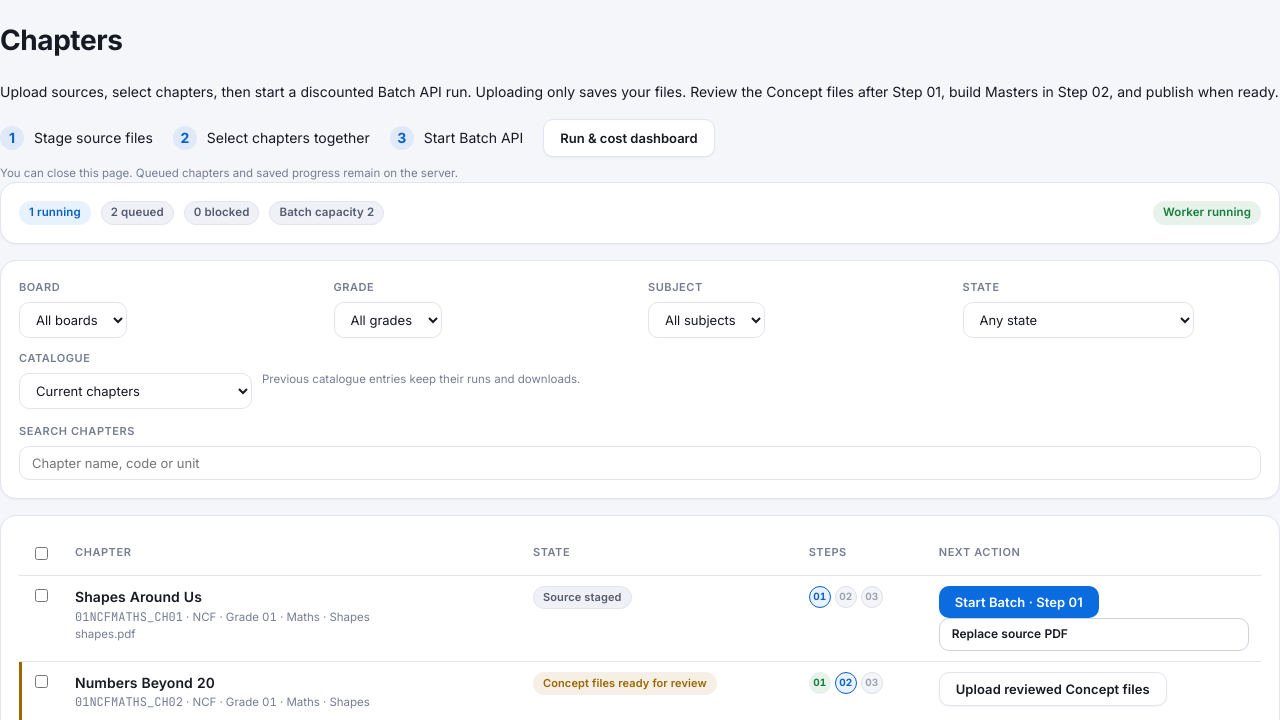
Test: selecting rows and pushing sends ONE request with only the eligible rows
Expected: the button "Shapes Around Us" is shown, [75,586,202,608]
Click the checkbox named "Select Shapes Around Us": (42, 596) [35,589,48,602]
(page scrolled)
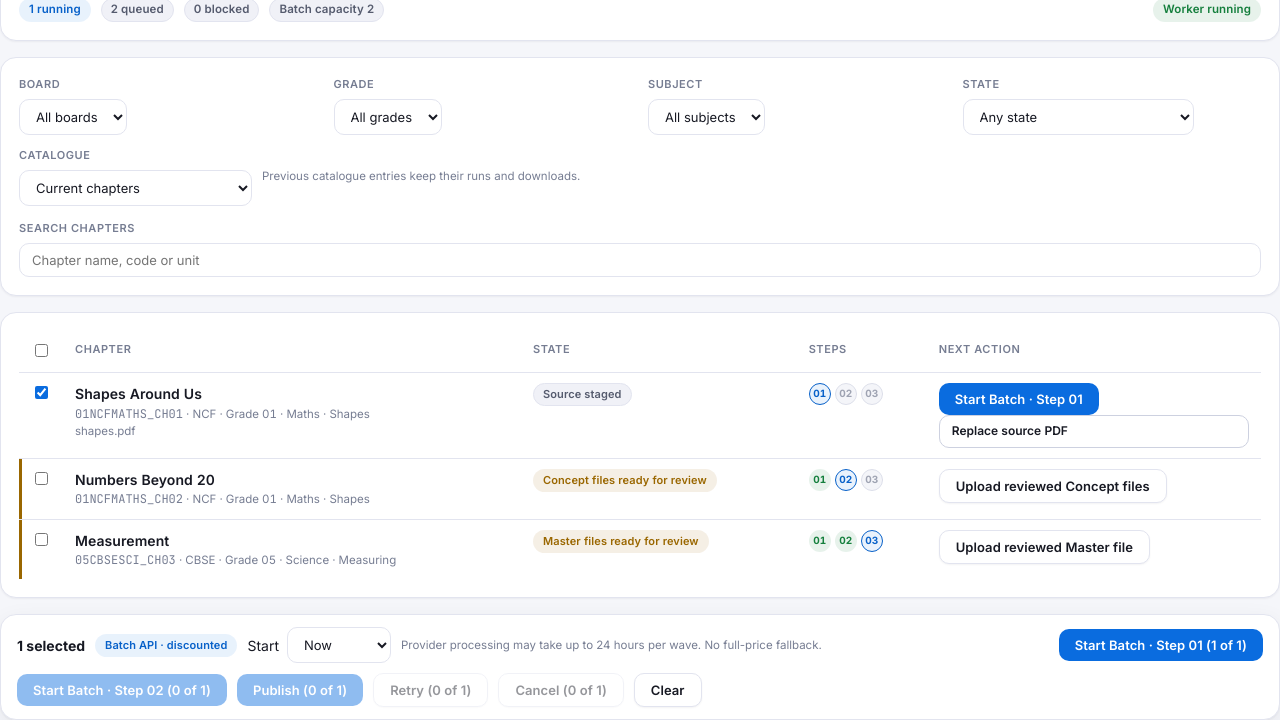
Click the checkbox named "Select Measurement": (42, 539) [35,532,48,546]
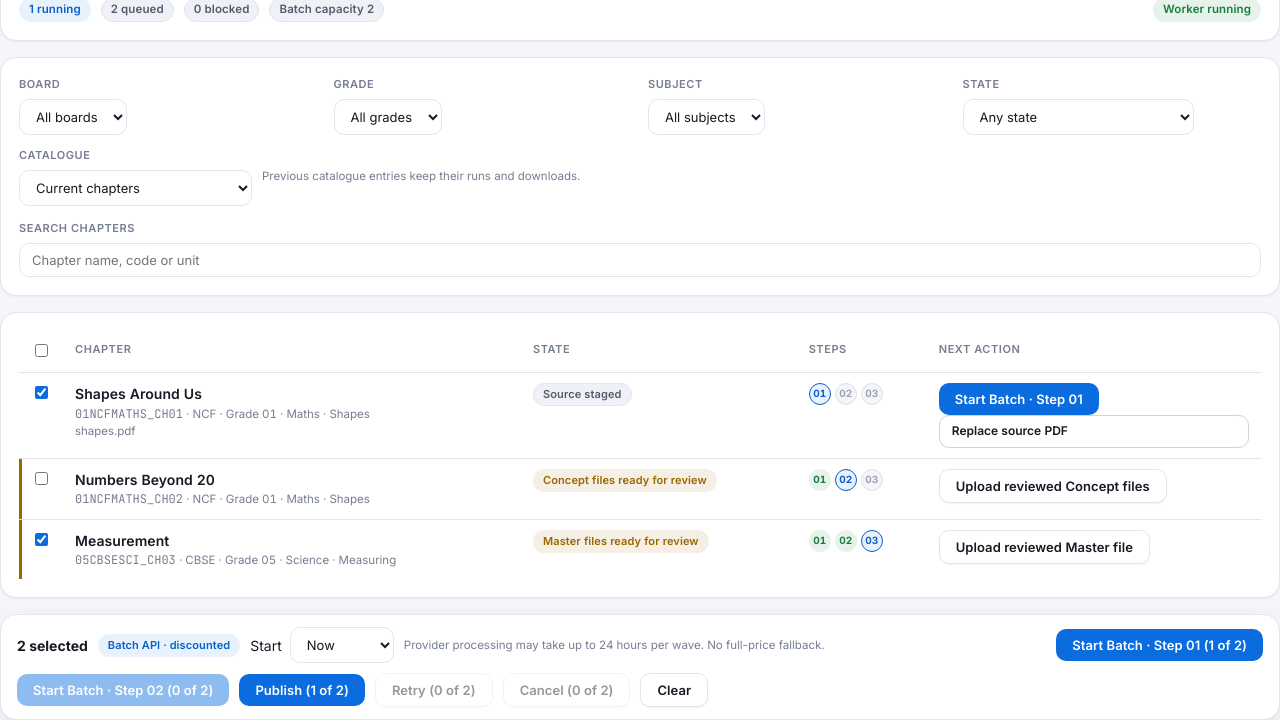
Now the button with test id "push-step01" reads "Start Batch · Step 01 (1 of 2)"
Click the button with test id "push-step01": (1160, 645) [1056,629,1263,661]
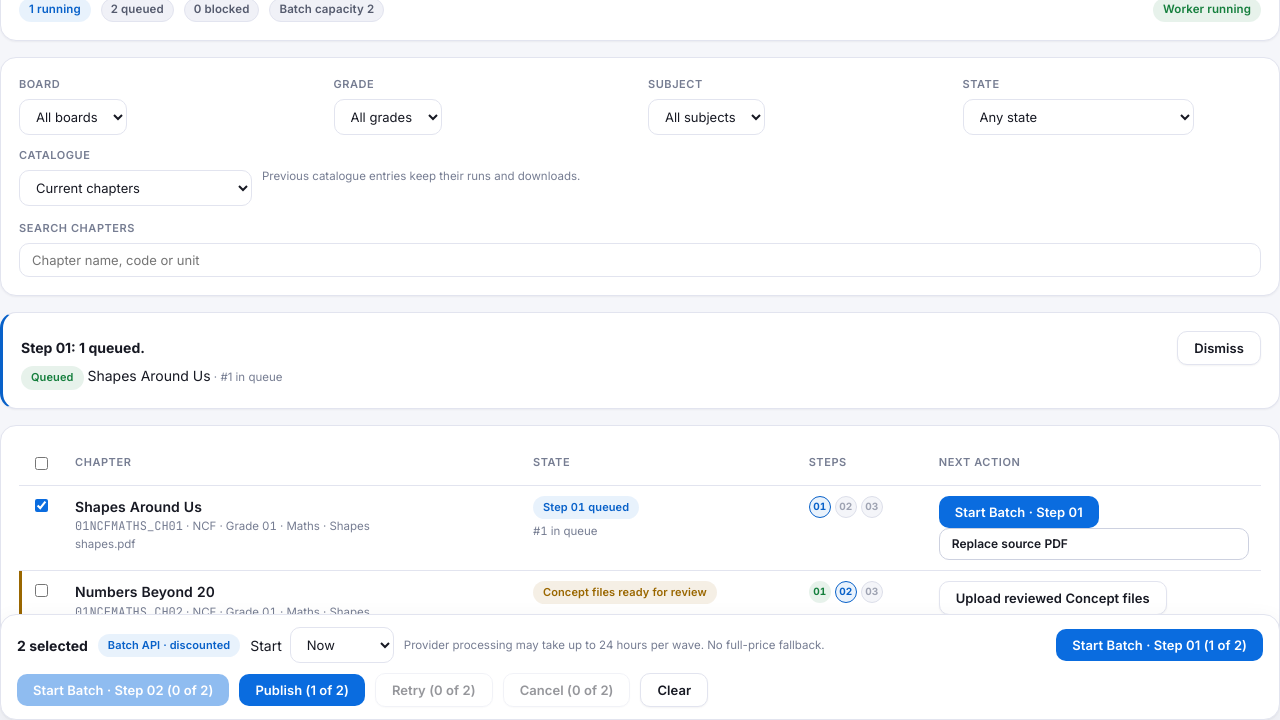
Now the text "#1 in queue" is shown, box [533,523,598,540]
